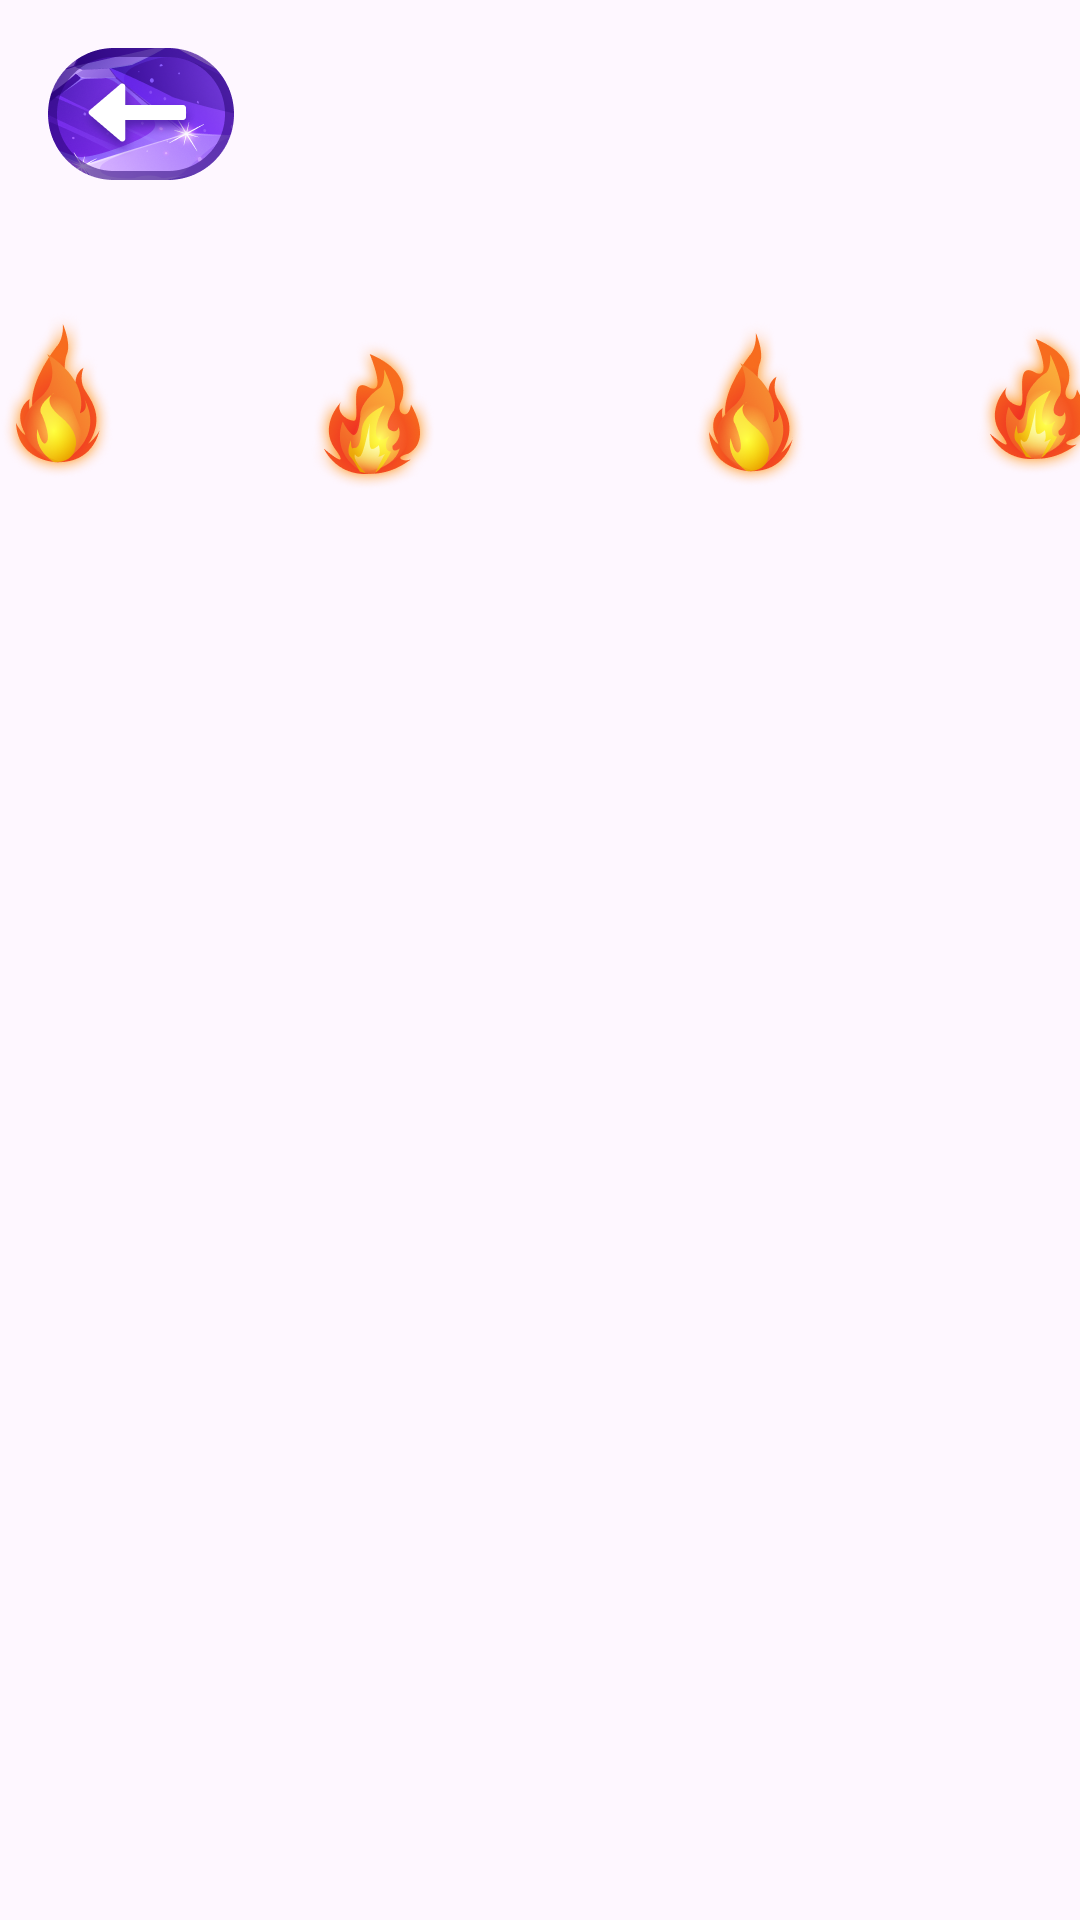

Icon bounding boxes for this 1080px×1920px phone screenshot, format (x1=x1, y1=y1, x2=x2, y2=y2):
back sel: (x1=48, y1=48, x2=234, y2=180)
